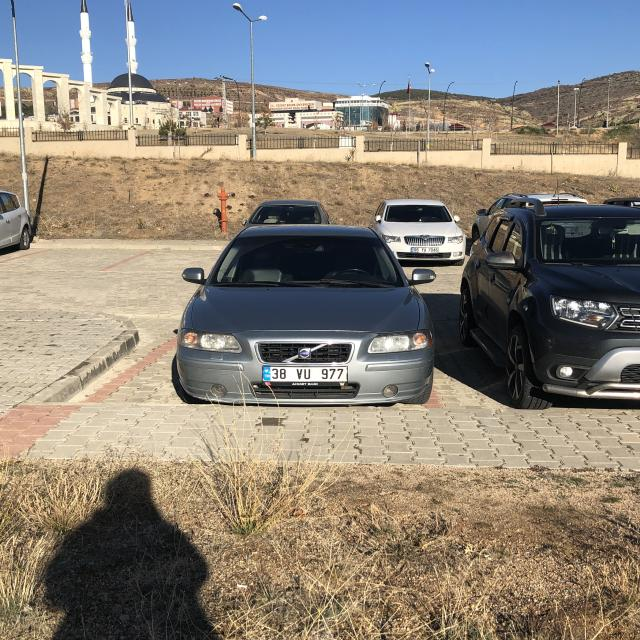license_plate: (262, 366, 348, 382)
